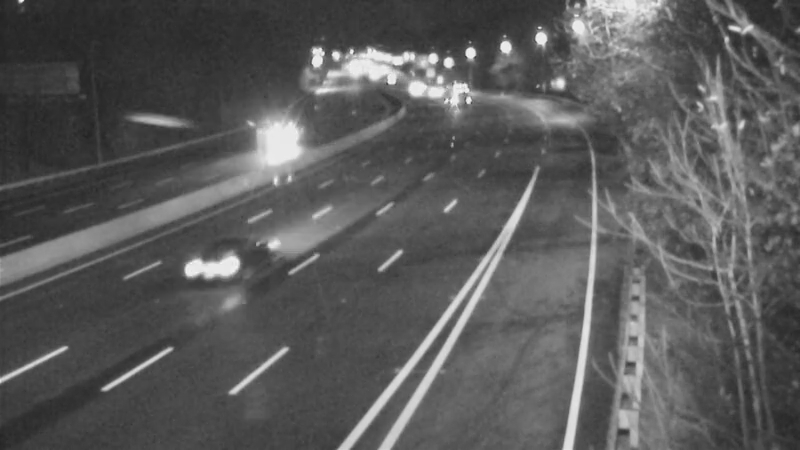vehicle: (187, 218, 267, 298), (391, 63, 441, 113), (408, 69, 458, 119), (433, 68, 483, 118), (252, 113, 302, 163)
